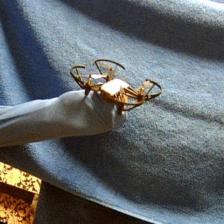drone: (69, 57, 163, 116)
